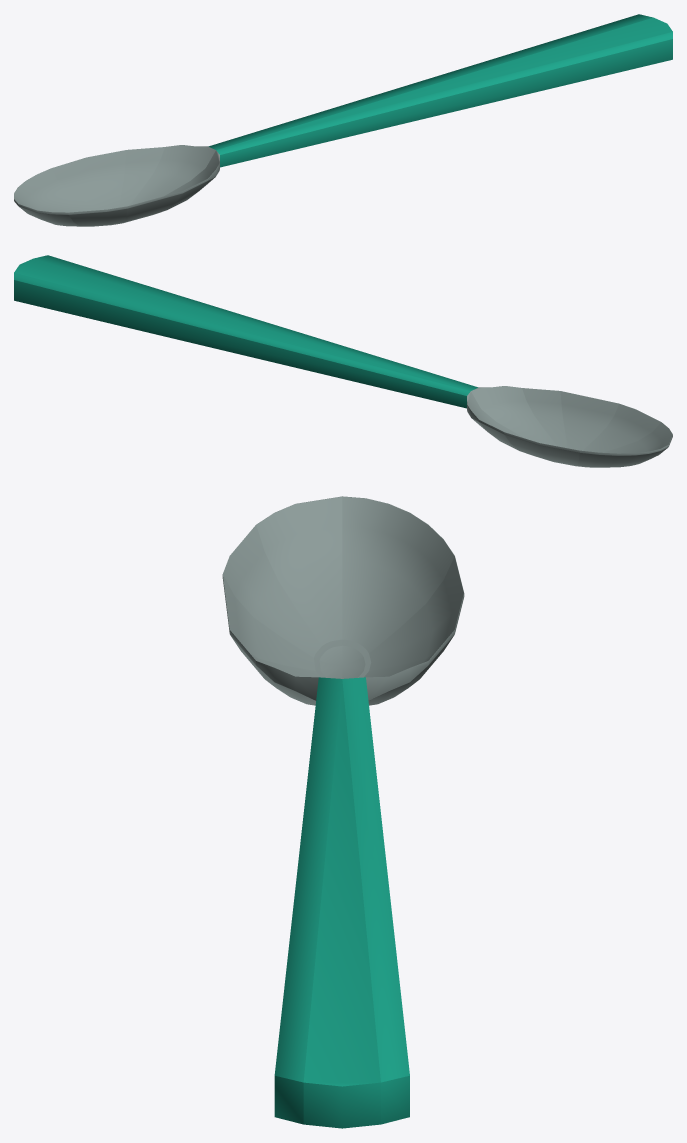
Rendered from SM_Dishes_14.fbx.
3 renders of one model, top to bottom at view 1: azimuth 30°, elevation 25°; view 2: azimuth 150°, elevation 25°; view 3: azimuth 270°, elevation 25°, orthographic. The views are drawn at different scales.
Visible parts, largest first — view 1: SM_Dishes_14; view 2: SM_Dishes_14; view 3: SM_Dishes_14.
Boxes of the visible parts, left/top/right/bottom form: SM_Dishes_14: left=14, top=14, right=672, bottom=226; SM_Dishes_14: left=14, top=255, right=672, bottom=467; SM_Dishes_14: left=222, top=496, right=464, bottom=1128.
Size of the model in its own units: 15.56 by 2.51 by 1.4.
1 material, 1 textured.
